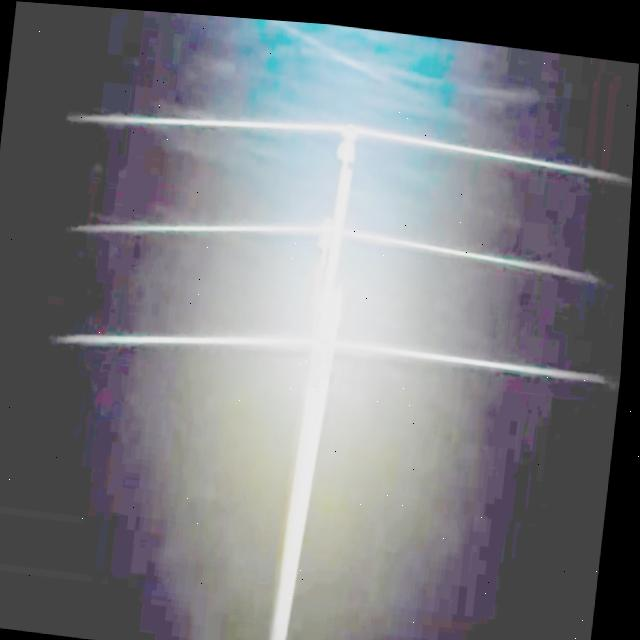poles: (279, 119, 360, 640)
wires: (356, 121, 627, 171), (344, 225, 589, 268), (338, 335, 603, 372), (72, 114, 347, 129), (77, 221, 335, 231), (66, 332, 320, 342)
